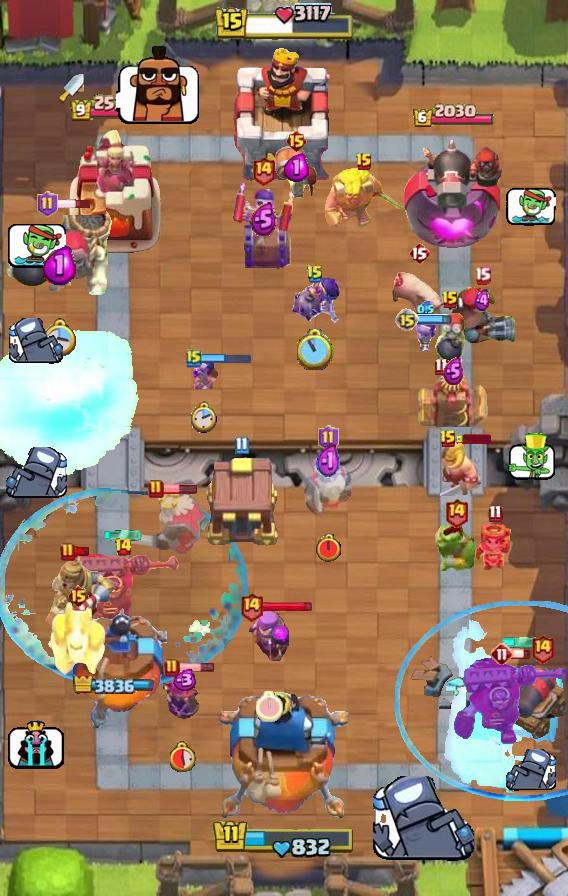bar: (64, 124, 164, 256)
bomb: (201, 454, 281, 548)
bomber-evolution: (473, 523, 517, 575)
clock: (212, 818, 356, 860), (213, 3, 355, 43)
electro-giant: (3, 201, 115, 311)
electro-spirit: (43, 246, 77, 286), (316, 443, 341, 481), (251, 202, 278, 236), (284, 154, 309, 182), (171, 669, 198, 691), (444, 357, 465, 385), (474, 288, 491, 311), (417, 301, 435, 318)
elixir: (297, 329, 335, 371), (43, 318, 78, 356), (256, 690, 283, 721), (191, 402, 217, 434), (315, 533, 342, 563), (171, 741, 198, 771)
elixir-golem-small: (48, 602, 108, 680)
emote: (200, 352, 252, 365), (262, 599, 313, 612), (56, 198, 93, 210), (162, 483, 198, 495), (177, 663, 214, 674), (417, 315, 452, 326), (455, 434, 491, 444), (511, 648, 531, 660), (73, 546, 91, 557)
evolution-symbol: (163, 667, 203, 727)
flying-machine: (435, 524, 477, 574)
giant: (390, 270, 448, 320)
goblin: (411, 316, 441, 352), (191, 355, 217, 389)
goblin-ball: (288, 275, 342, 325)
goblin-brawler: (418, 362, 488, 430)
goblin-giant: (439, 440, 480, 496)
goblin-hut: (320, 165, 408, 229)
ice-golem: (432, 311, 468, 367)
ice-spirit: (103, 529, 143, 541), (501, 637, 541, 649)
inferno-tower: (452, 658, 568, 746), (65, 550, 181, 626)
king-tower: (219, 692, 349, 826), (229, 43, 339, 181)
knight: (272, 145, 320, 211)
mega-knight: (0, 329, 142, 479)
mortar-evolution: (126, 486, 208, 556), (302, 452, 354, 520)
pad_0: (0, 486, 250, 688), (394, 601, 568, 803)
phoenix-small: (445, 286, 519, 348)
queen-tower: (61, 603, 167, 731)
ram-rider: (43, 555, 123, 639)
rascal-girl: (246, 607, 292, 673)
royal-giant-evolution: (500, 665, 568, 739)
selected: (68, 94, 159, 123), (413, 103, 496, 129), (73, 676, 155, 694)
skeleton: (374, 776, 475, 864), (116, 44, 202, 126), (5, 448, 66, 501), (7, 717, 65, 770), (6, 222, 66, 271), (9, 318, 63, 365), (507, 434, 558, 483), (506, 749, 556, 791), (506, 186, 556, 226)
skeleton-king-bar: (232, 180, 294, 272)
text: (252, 154, 277, 185), (444, 497, 469, 528), (529, 632, 554, 663), (240, 590, 264, 621), (395, 308, 419, 332), (490, 642, 514, 666), (37, 191, 59, 217), (285, 129, 308, 153), (67, 584, 90, 608), (318, 425, 339, 451), (408, 241, 430, 265), (114, 537, 134, 557), (355, 152, 373, 172), (306, 264, 324, 284), (441, 290, 459, 310), (439, 429, 457, 449), (474, 267, 491, 286), (186, 348, 202, 368), (148, 479, 164, 499), (60, 542, 76, 562), (164, 658, 180, 678), (488, 505, 503, 524), (234, 437, 249, 455), (435, 357, 449, 375)
tower-bar: (401, 132, 508, 256)
